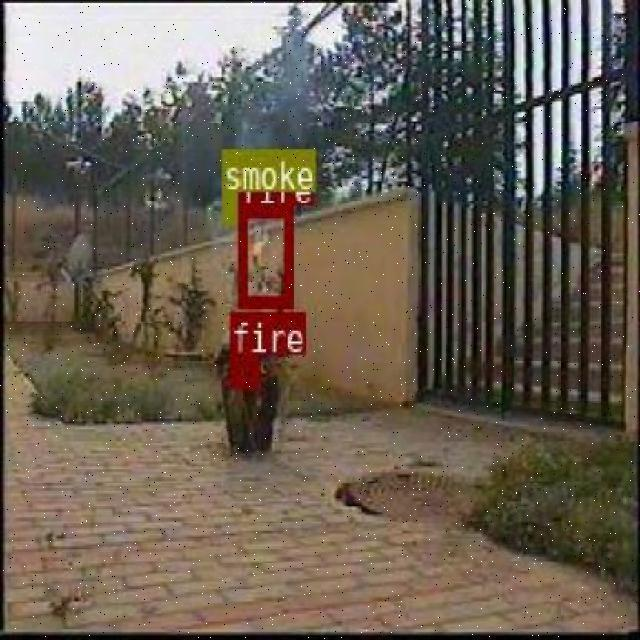Smoke: (225, 185, 232, 216)
